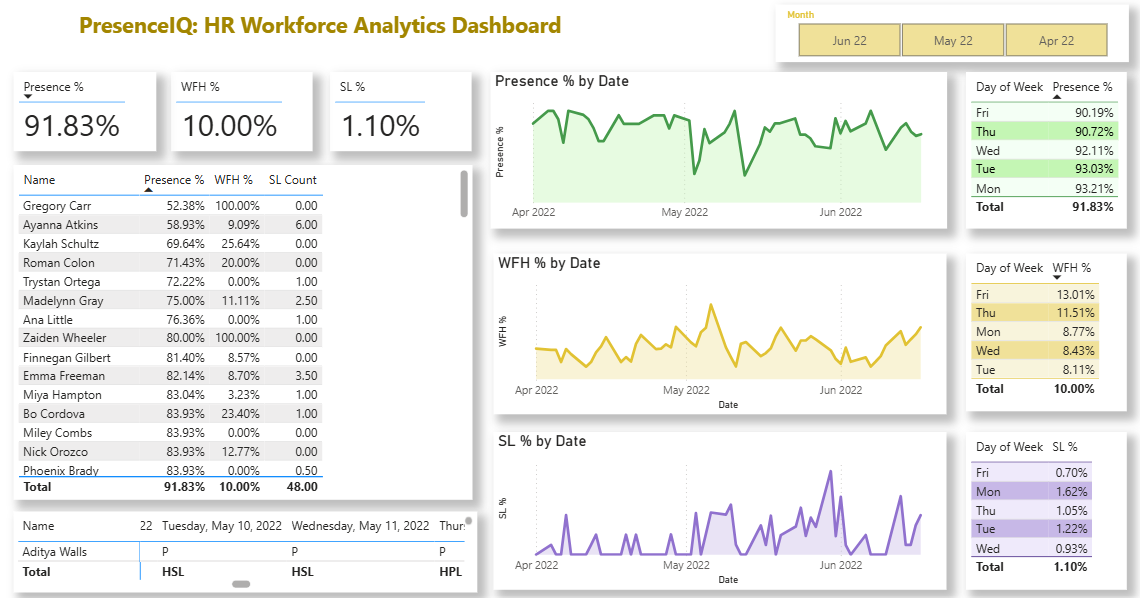

This screenshot's page, from the dashboard's own definition file:
{"tool":"powerbi","page":{"name":"Page 1","canvas":[1280,720],"ordinal":0},"visuals":[{"type":"tableEx","fields":{"Values":["Measure Table.SL %"]},"box":[370.6,83.8,157.4,88.2],"z":0},{"type":"slicer","fields":{"Values":["Final Data.Month"]},"box":[864.3,8.6,392.9,64.3],"z":1000},{"type":"tableEx","fields":{"Values":["Measure Table.WFH %"]},"box":[193.6,82.8,157.4,88.2],"z":2000},{"type":"tableEx","fields":{"Values":["Measure Table.Presence %"]},"box":[17.6,83.8,158.8,88.2],"z":3000},{"type":"tableEx","fields":{"Values":["Final Data.Name","Measure Table.Presence %","Measure Table.WFH %","Measure Table.SL Count"]},"box":[18.3,186.7,510,371.7],"z":4000},{"type":"textbox","box":[18.3,8.3,681.7,50],"z":5000},{"type":"pivotTable","fields":{"Rows":["Final Data.Name"],"Values":["Min(Final Data.Value)"],"Columns":["Final Data.Date"]},"box":[18.3,571.7,515,90],"z":6000},{"type":"stackedAreaChart","fields":{"Category":["Final Data.Date"],"Y":["Measure Table.Presence %"]},"box":[547.6,83.3,507.1,173.8],"z":7000},{"type":"stackedAreaChart","fields":{"Category":["Final Data.Date"],"Y":["Measure Table.WFH %"]},"box":[551.7,285,503.3,178.3],"z":8000},{"type":"stackedAreaChart","fields":{"Category":["Final Data.Date"],"Y":["Measure Table.SL %"]},"box":[551.7,483.3,503.3,175],"z":9000},{"type":"tableEx","fields":{"Values":["Final Data.Day of Week","Measure Table.Presence %"]},"box":[1076.2,83.3,178.6,173.8],"z":10000},{"type":"tableEx","fields":{"Values":["Final Data.Day of Week","Measure Table.WFH %"]},"box":[1076.7,285,178.3,175],"z":11000},{"type":"tableEx","fields":{"Values":["Final Data.Day of Week","Measure Table.SL %"]},"box":[1076.7,483.3,178.3,175],"z":12000}]}

Visuals, with their boxes on the page's 1280x720 design canvas (x1, y1, x2, y2). These are canvas units, not pixel positions in the 1140x598 screenshot, which may show the page scaled, cropped or inside an application window:
tableEx - Measure Table.SL %: [371,84,528,172]
slicer - Final Data.Month: [864,9,1257,73]
tableEx - Measure Table.WFH %: [194,83,351,171]
tableEx - Measure Table.Presence %: [18,84,176,172]
tableEx - Final Data.Name x Measure Table.Presence %: [18,187,528,558]
textbox: [18,8,700,58]
pivotTable - Final Data.Name x Min(Final Data.Value): [18,572,533,662]
stackedAreaChart - Final Data.Date x Measure Table.Presence %: [548,83,1055,257]
stackedAreaChart - Final Data.Date x Measure Table.WFH %: [552,285,1055,463]
stackedAreaChart - Final Data.Date x Measure Table.SL %: [552,483,1055,658]
tableEx - Final Data.Day of Week x Measure Table.Presence %: [1076,83,1255,257]
tableEx - Final Data.Day of Week x Measure Table.WFH %: [1077,285,1255,460]
tableEx - Final Data.Day of Week x Measure Table.SL %: [1077,483,1255,658]
